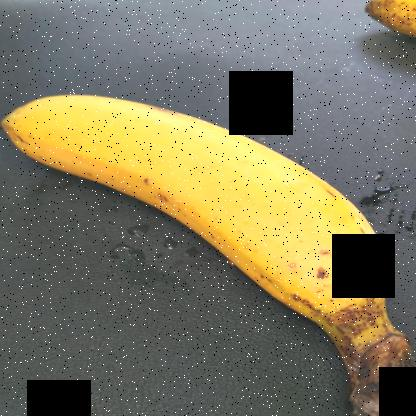freshripe: (1, 72, 393, 345)
